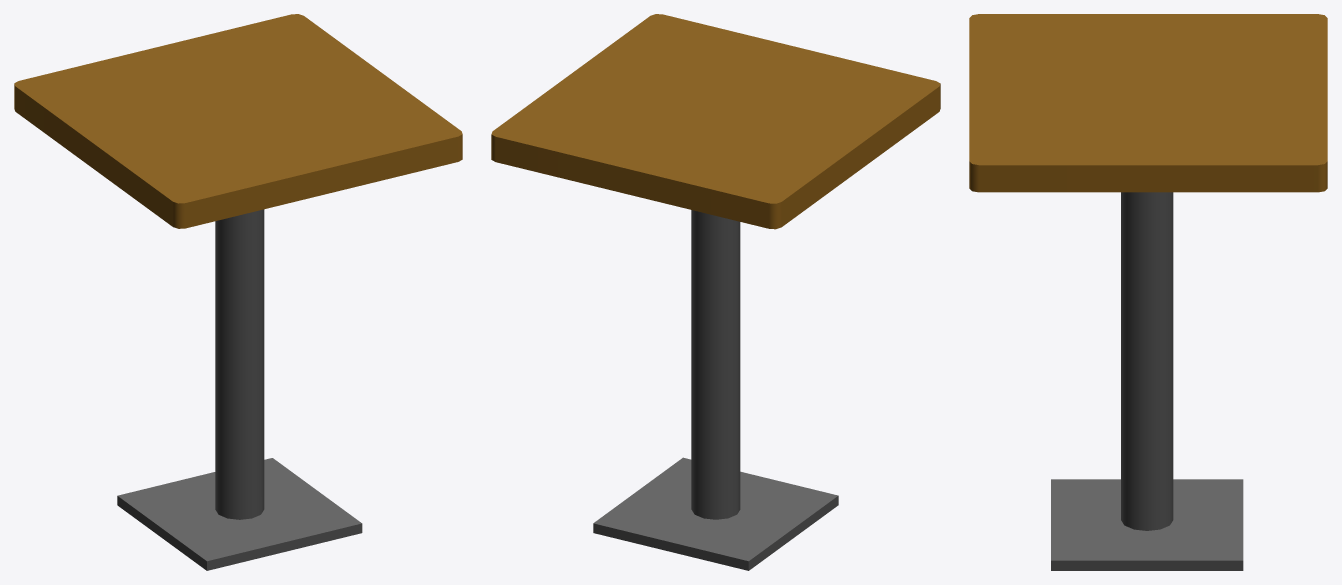
File: Dining_Table01.fbx
3 renders of one model, left to right at view 1: azimuth 30°, elevation 25°; view 2: azimuth 150°, elevation 25°; view 3: azimuth 270°, elevation 25°, orthographic. The views are drawn at different scales.
Visible parts, largest first — view 1: Dining_Table01; view 2: Dining_Table01; view 3: Dining_Table01.
Boxes of the visible parts, x1=… form: Dining_Table01: x1=14, y1=14, x2=462, y2=570; Dining_Table01: x1=491, y1=14, x2=940, y2=570; Dining_Table01: x1=969, y1=14, x2=1327, y2=570.
Size of the model in its own units: 113 by 153 by 113.
